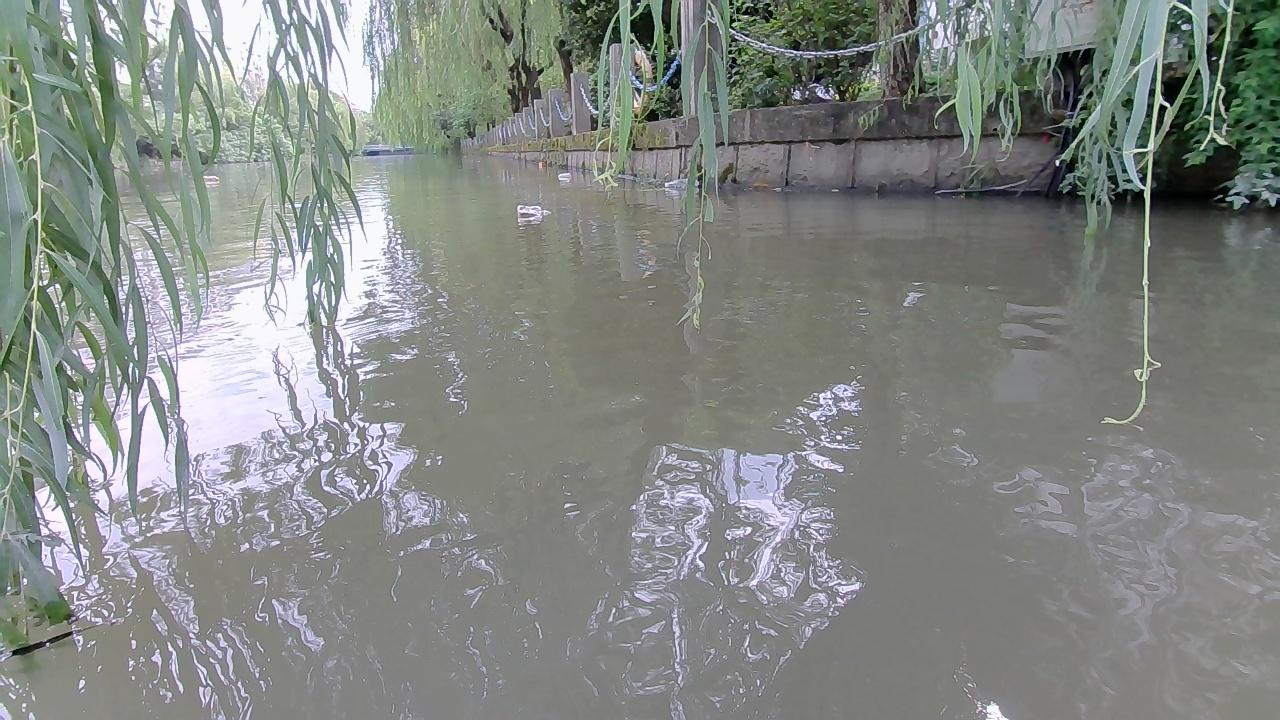bottle: (515, 203, 554, 219), (666, 177, 695, 188), (204, 173, 226, 187), (554, 172, 570, 182)
